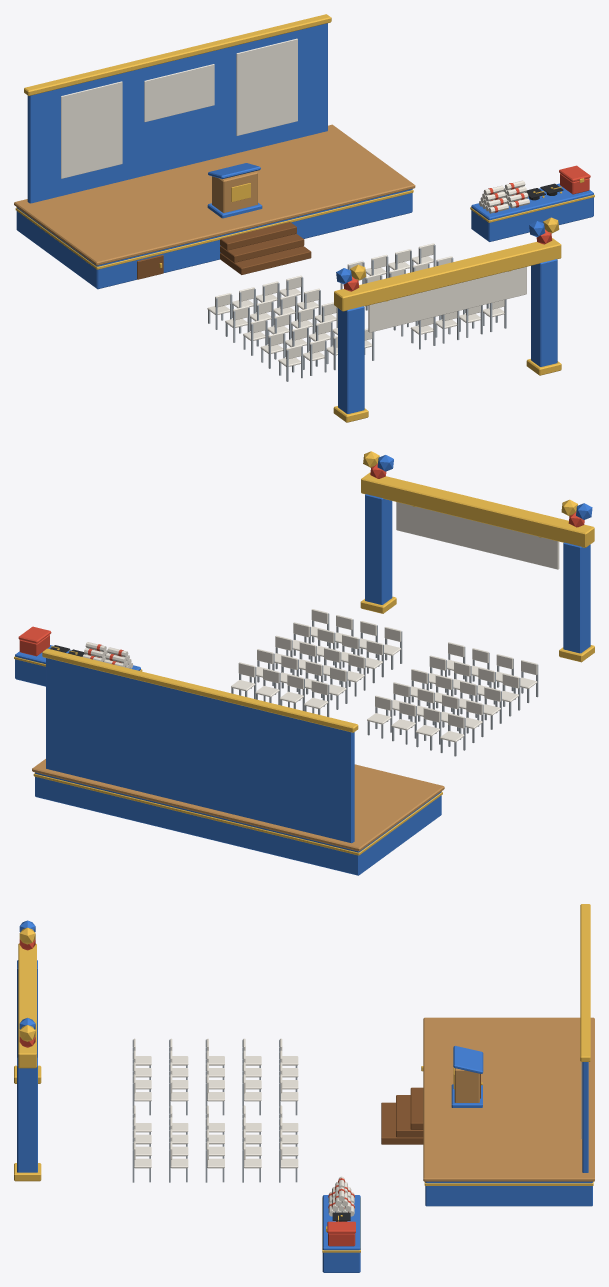
The model's file is graduation-stage-set.glb.
3 renders of one model, top to bottom at view 1: azimuth 30°, elevation 25°; view 2: azimuth 150°, elevation 25°; view 3: azimuth 270°, elevation 25°, orthographic. The views are drawn at different scales.
Parts seen in each view (by area): view 1: Stage_Deck, Backdrop_Wall, Stage_Body, Poster_Blank_1, Poster_Blank_2, Arch_Beam, Arch_Banner_Blank, Table_Cloth, Stage, Backdrop_Trim, Backdrop_Panel_Center, Arch_Pillar_L (+3 smaller); view 2: Backdrop_Wall, Stage_Body, Stage_Deck, Arch_Beam, Arch_Banner_Blank, Backdrop_Trim, Arch_Pillar_L, Arch_Pillar_R, Stage_Band, Table_Cloth; view 3: Stage_Deck, Stage_Body, Arch_Pillar_R, Stage, Arch_Beam, Backdrop_Trim, Table_Cloth, Podium_Body, Backdrop_Wall, Podium_Top, Stage_Band.
Part boxes in pixels (x1,y1,x2,y2): Stage_Deck: (14, 124, 415, 265); Backdrop_Wall: (27, 23, 327, 203); Stage_Body: (16, 189, 412, 289); Poster_Blank_1: (61, 81, 122, 178); Poster_Blank_2: (236, 38, 297, 135); Arch_Beam: (334, 238, 561, 311); Arch_Banner_Blank: (368, 267, 526, 332); Table_Cloth: (471, 183, 593, 241); Stage: (220, 222, 311, 274); Backdrop_Trim: (24, 14, 331, 95); Backdrop_Panel_Center: (144, 64, 214, 122); Arch_Pillar_L: (338, 306, 364, 413); Backdrop_Wall: (46, 658, 354, 843); Stage_Body: (35, 772, 441, 875); Stage_Deck: (32, 759, 444, 851); Arch_Beam: (361, 472, 594, 547); Arch_Banner_Blank: (396, 502, 559, 569); Backdrop_Trim: (42, 648, 358, 732); Arch_Pillar_L: (563, 542, 590, 653); Arch_Pillar_R: (365, 494, 392, 604); Stage_Band: (33, 773, 442, 855); Table_Cloth: (15, 645, 140, 686); Stage_Deck: (423, 1017, 594, 1181); Stage_Body: (425, 1181, 592, 1206); Arch_Pillar_R: (17, 1057, 37, 1172); Stage: (381, 1087, 423, 1144); Arch_Beam: (18, 943, 36, 1068); Backdrop_Trim: (580, 904, 590, 1061); Table_Cloth: (322, 1195, 360, 1272); Podium_Body: (454, 1068, 479, 1102); Backdrop_Wall: (582, 1062, 588, 1172); Podium_Top: (453, 1045, 483, 1073); Stage_Band: (424, 1181, 593, 1185).
Bounding box in the file's own units: 51.26 × 16.3 × 55.5.
